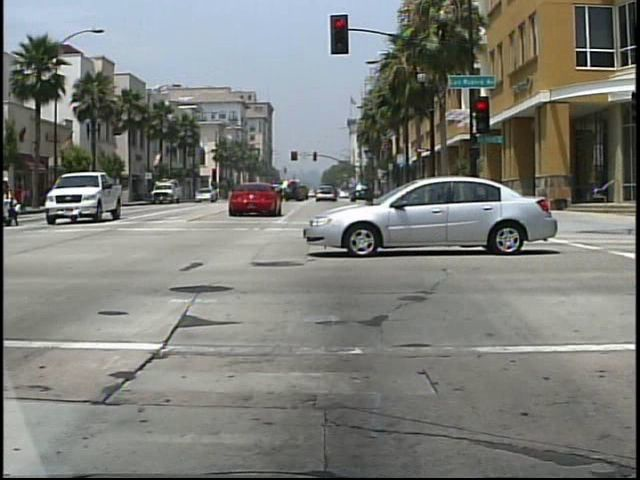person: (0, 173, 26, 230)
